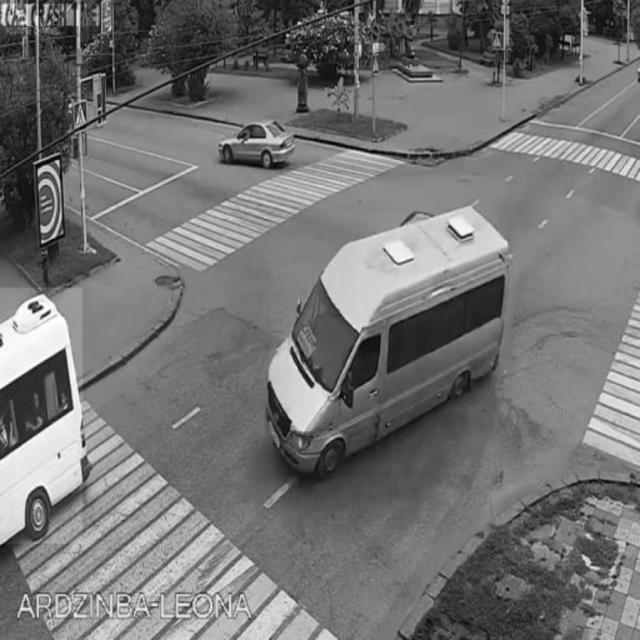vehicle: (271, 213, 508, 471), (0, 287, 82, 543), (217, 120, 293, 168)
